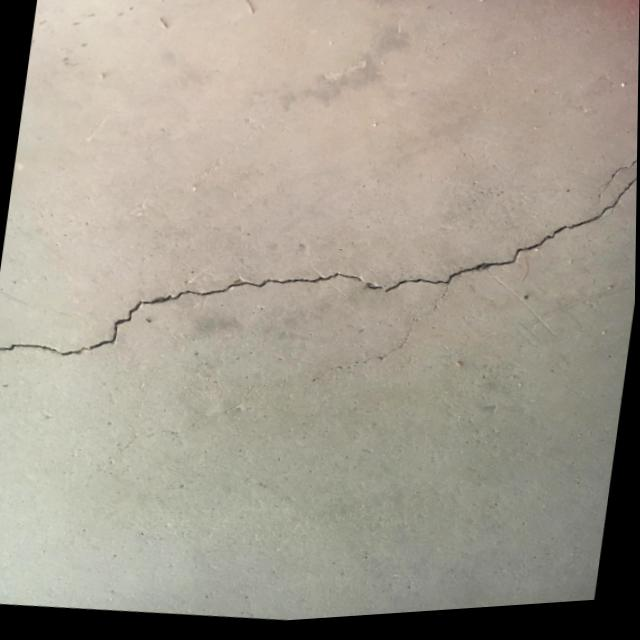Crack: (0, 225, 359, 403), (349, 119, 638, 330)
